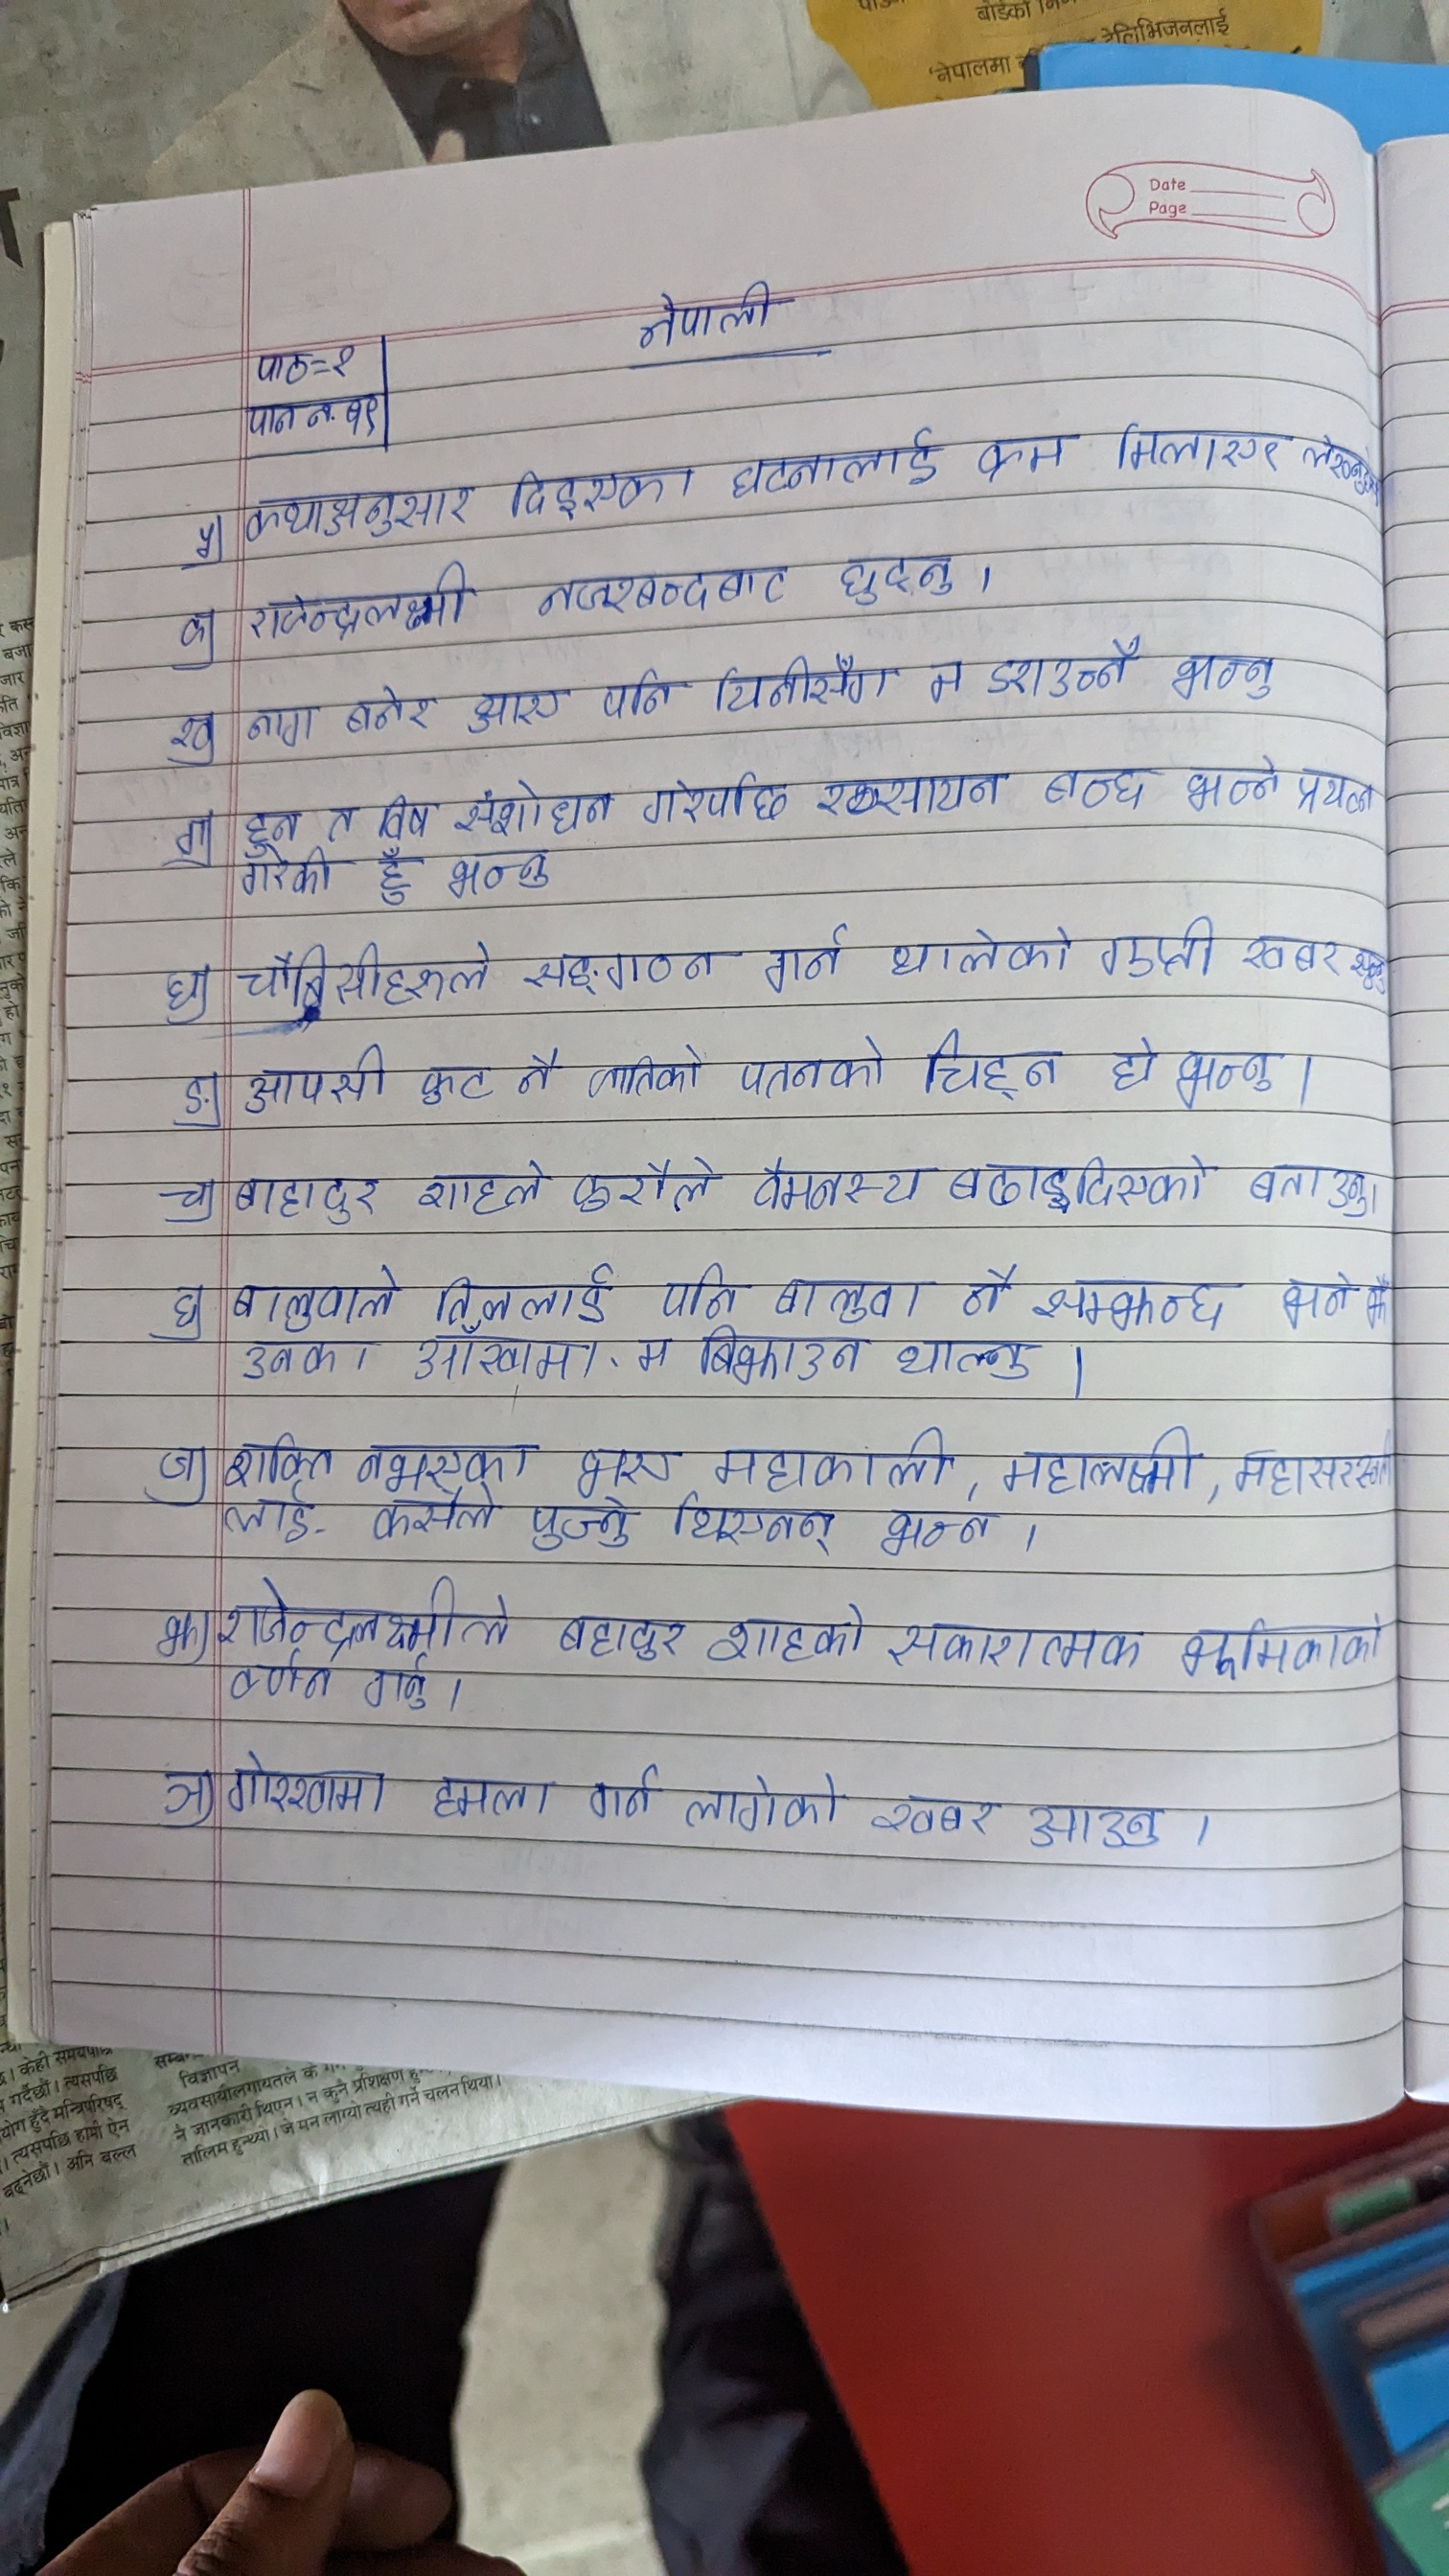text: (941, 1145, 1214, 1223), (883, 1608, 1152, 1683), (729, 418, 943, 510), (223, 1580, 504, 1649), (244, 568, 476, 648), (241, 945, 501, 1016), (708, 635, 895, 725), (706, 1422, 947, 1488), (529, 557, 789, 617), (1169, 1606, 1382, 1675), (994, 1424, 1196, 1497), (244, 485, 474, 547), (235, 1256, 400, 1336), (225, 1746, 389, 1826), (881, 918, 1077, 984), (621, 278, 812, 345), (738, 1026, 895, 1108), (748, 1146, 931, 1215), (428, 1254, 614, 1322), (706, 1592, 862, 1672), (1030, 1267, 1231, 1327), (414, 1327, 603, 1391), (985, 628, 1146, 702), (676, 1491, 846, 1560), (242, 1039, 387, 1118), (915, 1024, 1065, 1100), (1023, 1794, 1185, 1863), (524, 941, 722, 998), (1221, 1431, 1396, 1493), (511, 464, 702, 520), (807, 764, 1003, 817), (1113, 419, 1281, 481), (679, 1771, 837, 1836), (418, 1143, 547, 1223), (1169, 1024, 1283, 1113), (1095, 906, 1221, 985), (228, 1162, 387, 1224), (701, 1329, 869, 1387), (833, 536, 959, 612), (453, 780, 612, 839), (571, 1044, 709, 1111), (1238, 1154, 1371, 1223), (548, 1599, 686, 1665), (349, 1435, 531, 1484), (571, 1155, 718, 1215), (640, 770, 787, 828), (770, 1267, 916, 1325), (428, 1764, 557, 1826), (223, 1649, 350, 1711), (752, 911, 847, 991), (869, 1785, 998, 1844), (885, 1506, 1001, 1569), (223, 1426, 340, 1488), (1039, 755, 1154, 816), (366, 1488, 504, 1537), (1237, 925, 1346, 985), (977, 425, 1072, 492), (524, 1499, 646, 1550), (1182, 754, 1279, 817), (1168, 646, 1279, 701), (893, 1334, 1031, 1378), (343, 678, 441, 740), (241, 1339, 379, 1382), (467, 681, 570, 738), (1272, 1269, 1353, 1339), (219, 1490, 313, 1548), (1292, 763, 1378, 824), (448, 844, 552, 895), (584, 1762, 662, 1829), (593, 663, 676, 725), (568, 1438, 663, 1491), (366, 1652, 433, 1727), (409, 1056, 499, 1108), (1097, 1026, 1161, 1097), (653, 1263, 734, 1316), (237, 858, 336, 901), (957, 1251, 1016, 1318), (241, 697, 313, 750), (154, 1750, 207, 1821), (173, 1062, 226, 1127), (154, 1437, 209, 1493), (168, 607, 218, 669), (159, 950, 209, 1012), (172, 709, 225, 766), (513, 1040, 563, 1100), (149, 1601, 198, 1661), (924, 651, 968, 718), (372, 847, 418, 909), (159, 1171, 214, 1223), (1361, 1265, 1398, 1336), (241, 801, 294, 849), (166, 803, 212, 858), (373, 796, 430, 837), (246, 345, 308, 382), (186, 501, 223, 563), (329, 338, 373, 386), (170, 1281, 202, 1338), (320, 796, 357, 842), (635, 1330, 671, 1378)
